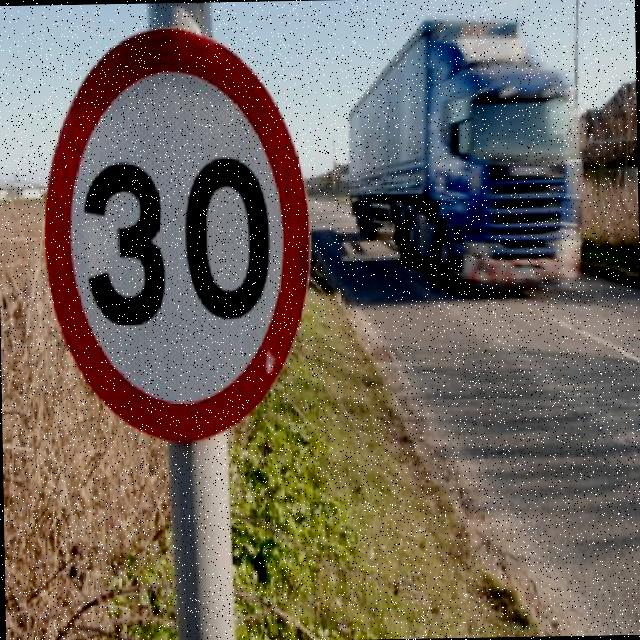Ograniczenie predkosci do 30: (42, 27, 312, 441)
